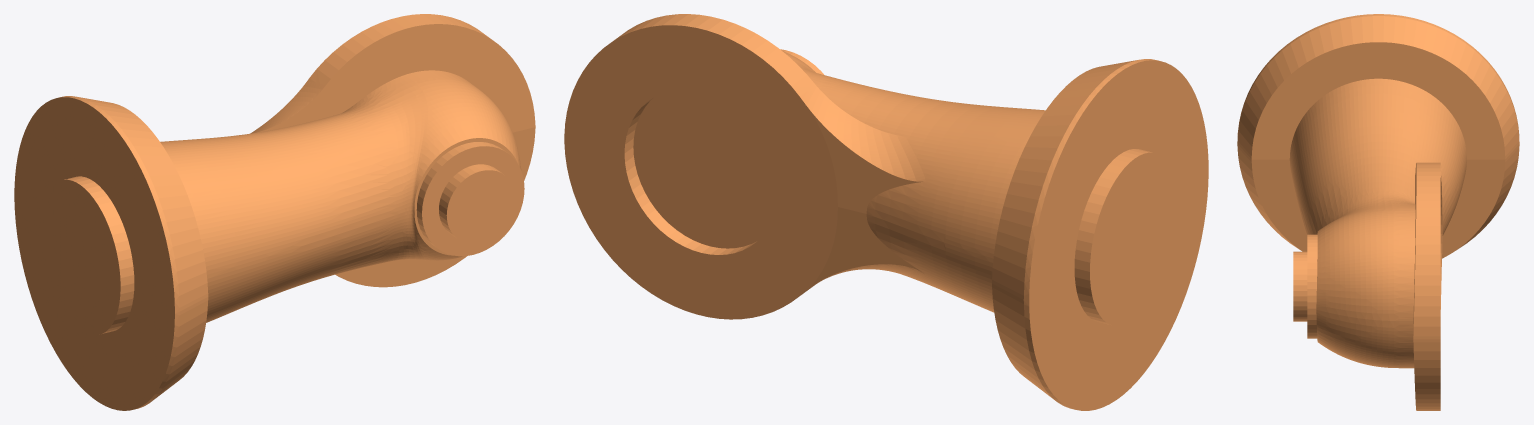
3 renders of one model, left to right at view 1: azimuth 30°, elevation 25°; view 2: azimuth 150°, elevation 25°; view 3: azimuth 270°, elevation 25°, orthographic. The views are drawn at different scales.
Parts seen in each view (by area): view 1: Link_4; view 2: Link_4; view 3: Link_4.
Part boxes in pixels (x1,y1,x2,y2): Link_4: (14,14,535,410); Link_4: (564,14,1208,410); Link_4: (1237,14,1519,410).
Bounding box in the file's own units: 0.3446 × 0.202 × 0.202.
